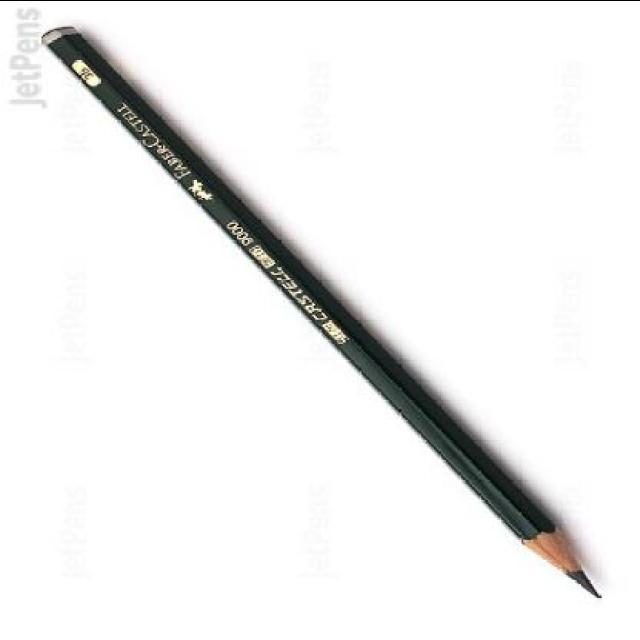pencil: (508, 514, 618, 610)
